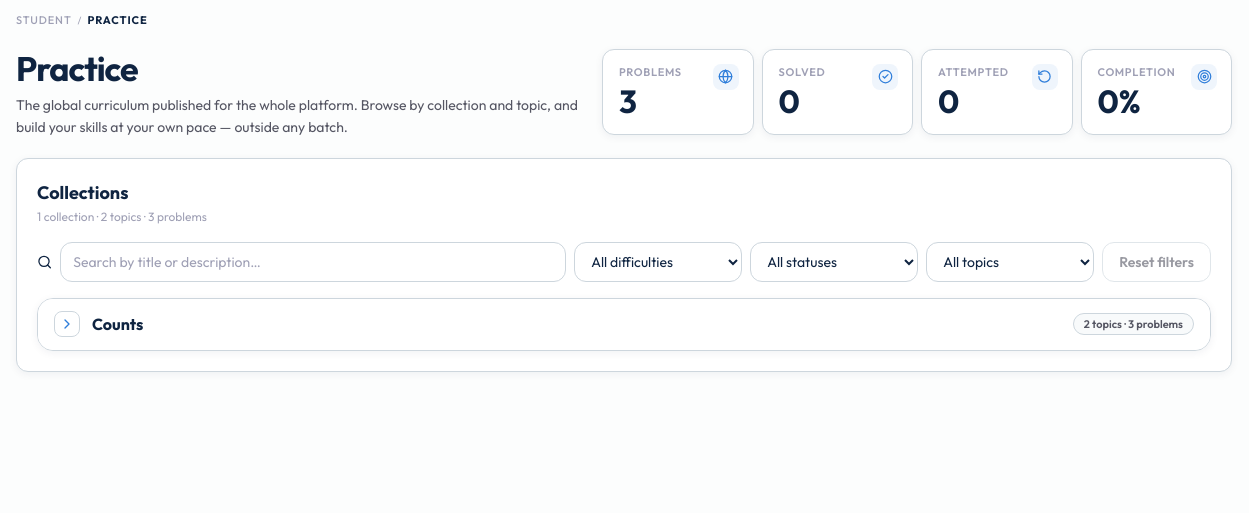
Scenario: singular and plural labels are correct at both levels
Expected: the text "Counts" is shown, [92, 314, 143, 334]
Click the button "Counts 2 topics · 3 problems": coordinates (118, 324) [54, 311, 1194, 337]
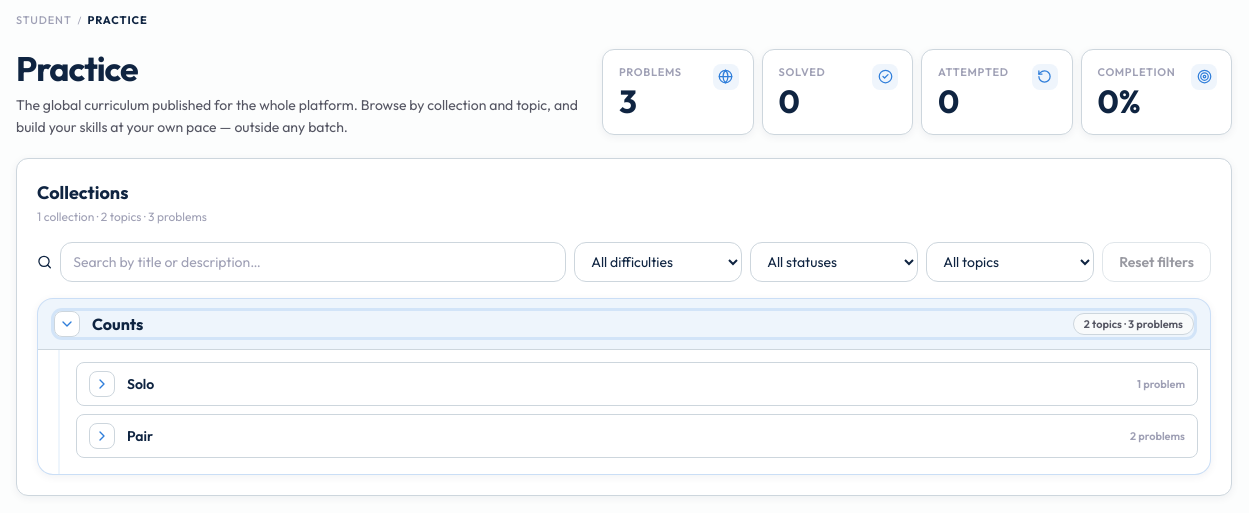
Result: the button "Solo 1 problem" is shown at [89, 371, 1185, 397]
Result: the button "Pair 2 problems" is shown at [89, 423, 1185, 449]
